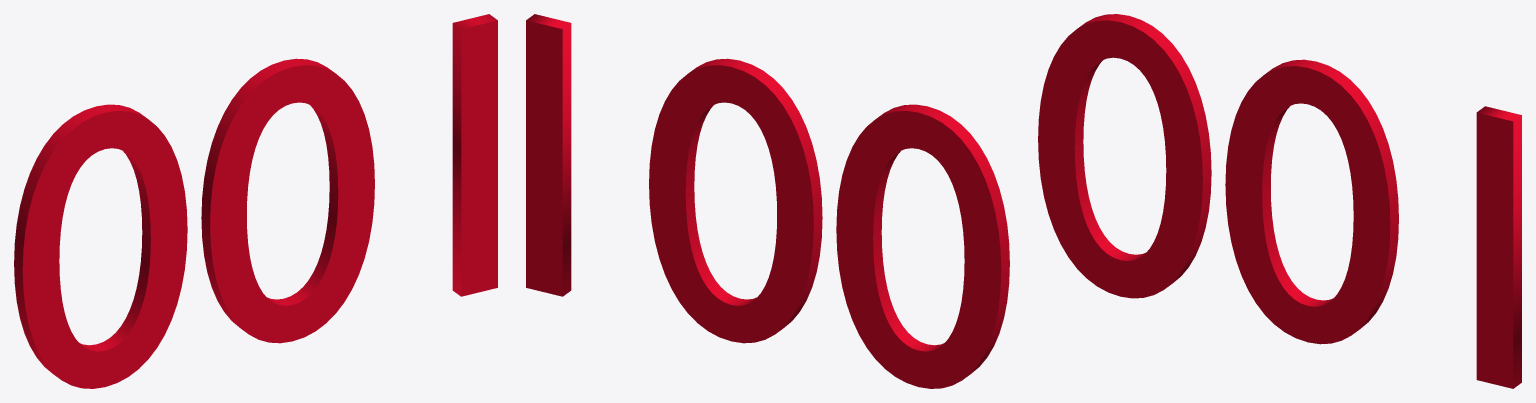
File: score100.glb
The picture shows the model from 3 angles, left to right: view 1: azimuth 30°, elevation 25°; view 2: azimuth 150°, elevation 25°; view 3: azimuth 330°, elevation 25°; orthographic projection.
Visible parts, largest first — view 1: テキスト; view 2: テキスト; view 3: テキスト.
Part boxes in pixels (x1,y1,x2,y2): テキスト: (14, 14, 497, 388); テキスト: (526, 14, 1009, 388); テキスト: (1038, 14, 1521, 388).
Size of the model in its own units: 1.27 by 0.7 by 0.04.
